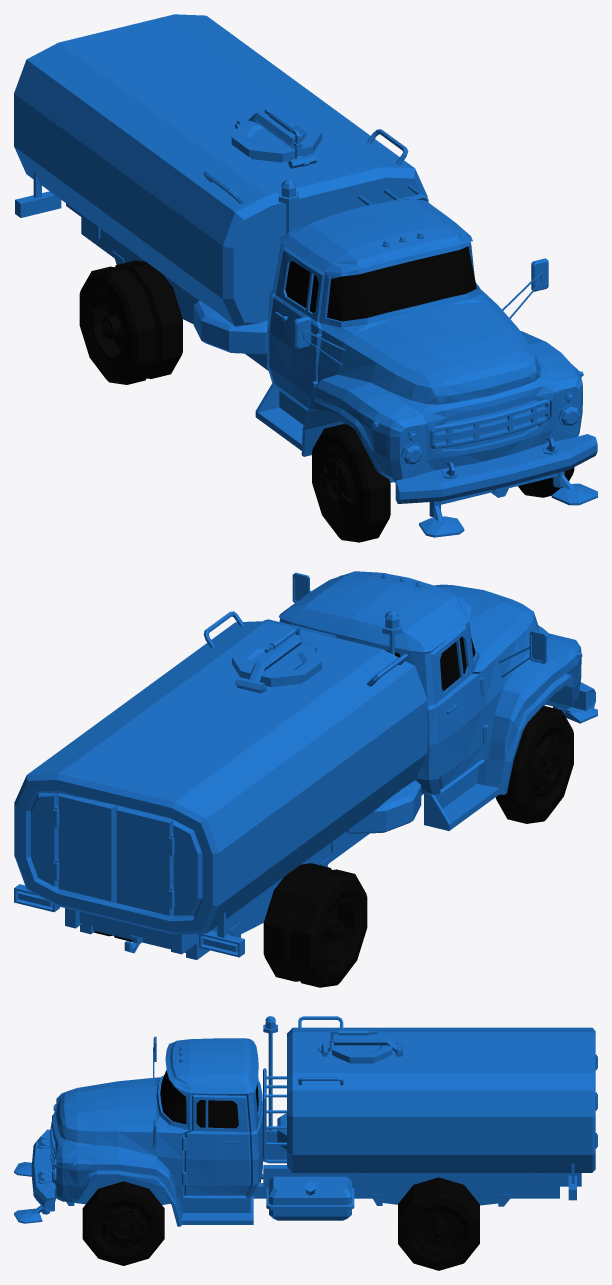
File: SM_sprayer.fbx
3 views of the same model, one above another, from view 1: azimuth 30°, elevation 25°; view 2: azimuth 150°, elevation 25°; view 3: azimuth 270°, elevation 25° (orthographic). The views are drawn at different scales.
Parts seen in each view (by area): view 1: cafsdf_3, Cylinder_3, Cylinder_2; view 2: cafsdf_3, Cylinder_3, Cylinder_2; view 3: cafsdf_3, Cylinder_3, Cylinder.
Boxes of the visible parts, <box> form: cafsdf_3: <box>14,14,597,537</box>; Cylinder_3: <box>79,260,182,384</box>; Cylinder_2: <box>312,424,390,542</box>; cafsdf_3: <box>14,571,597,959</box>; Cylinder_3: <box>93,863,367,987</box>; Cylinder_2: <box>495,705,573,823</box>; cafsdf_3: <box>14,1016,597,1226</box>; Cylinder_3: <box>398,1177,479,1270</box>; Cylinder: <box>82,1181,164,1265</box>.
Size of the model in its own units: 274 by 287 by 761.
